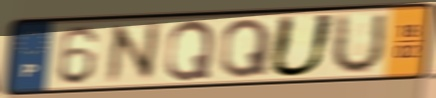6: (55, 22, 100, 88)
N: (104, 19, 161, 87)
Q: (163, 18, 218, 83), (219, 16, 274, 80)
U: (265, 12, 339, 80), (327, 10, 389, 77)
